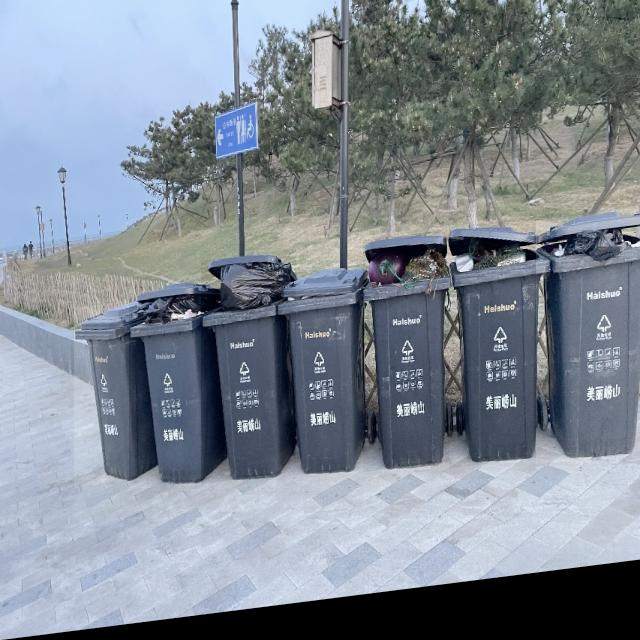garbage_bin: (74, 302, 156, 489)
overflow: (536, 225, 640, 479), (449, 230, 549, 480), (201, 257, 296, 489), (129, 280, 227, 494), (363, 241, 450, 482), (276, 273, 368, 489)
